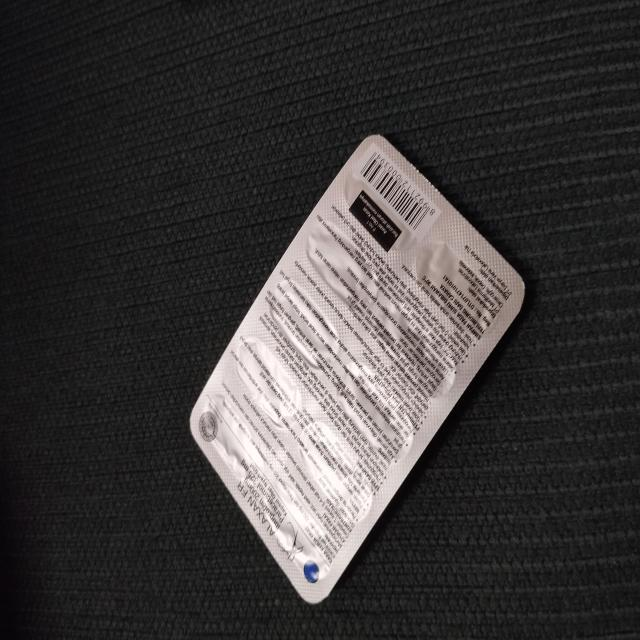B3: (191, 134, 521, 608)
